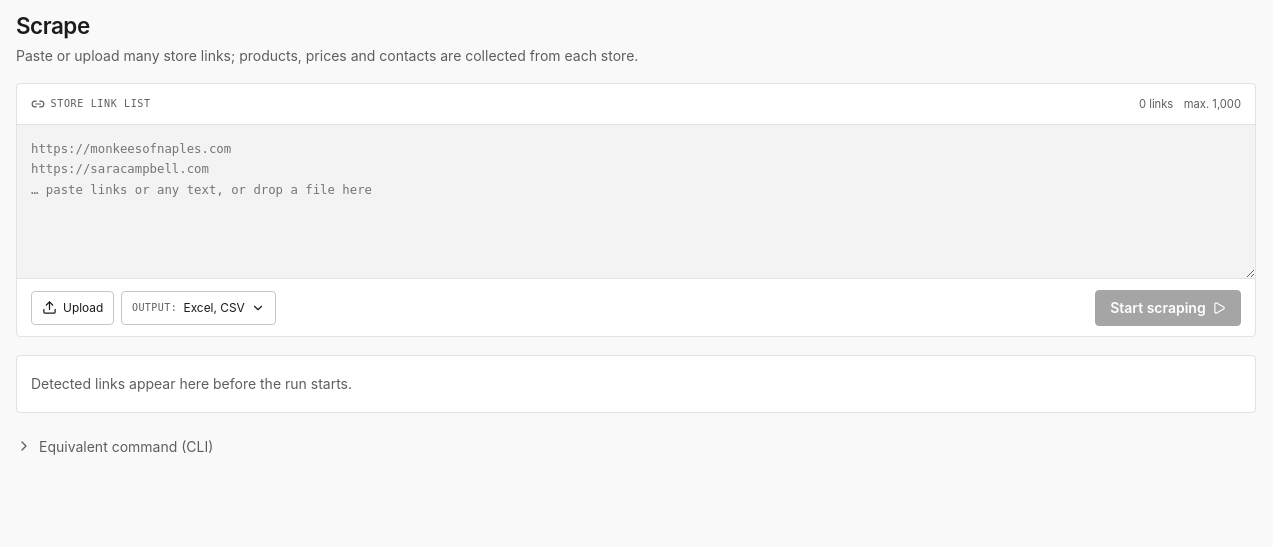
Test: Scrape › shows the equivalent command line
Expected: the button "Start scraping" is shown, [1095, 290, 1241, 326]
Click the heading "Equivalent command (CLI)" at (115, 446), box [16, 438, 213, 455]
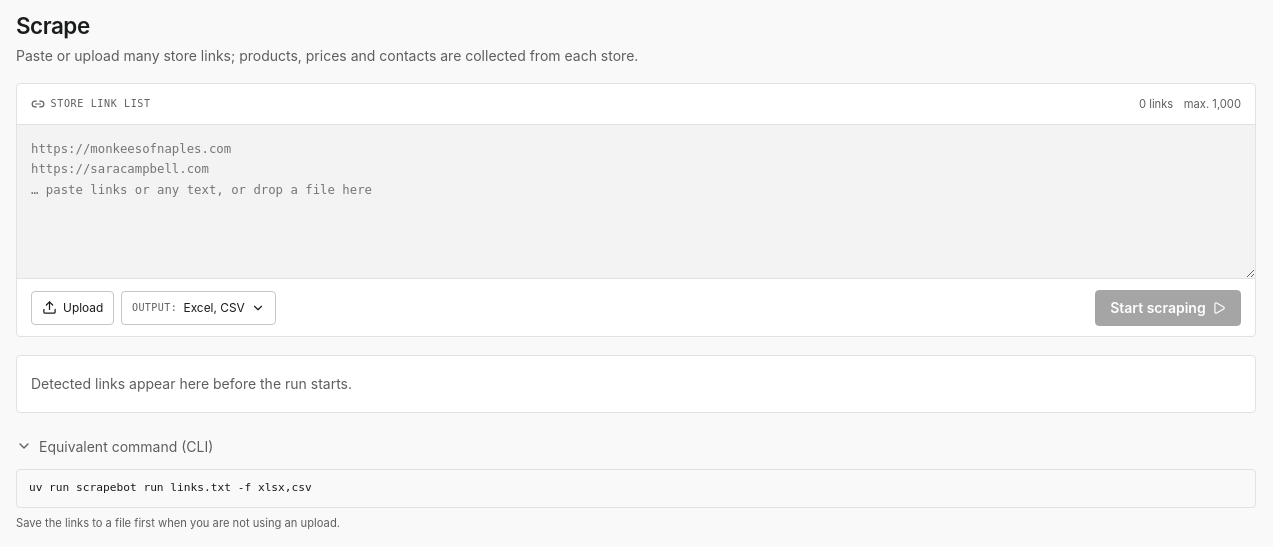
Expected: the text "uv run scrapebot run links.txt -f xlsx,csv" is shown, [16, 469, 1256, 508]
